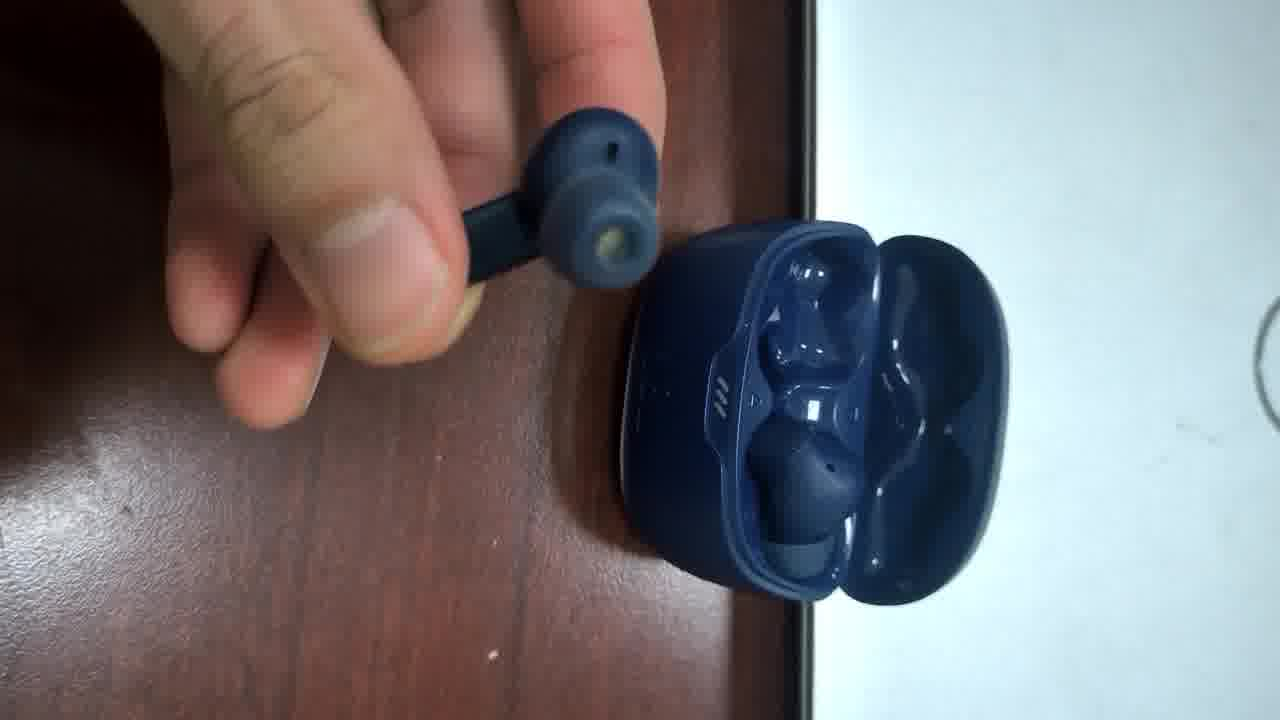Earbud: (464, 108, 658, 288), (746, 415, 863, 577)
Empty_Slot: (757, 232, 877, 398)
